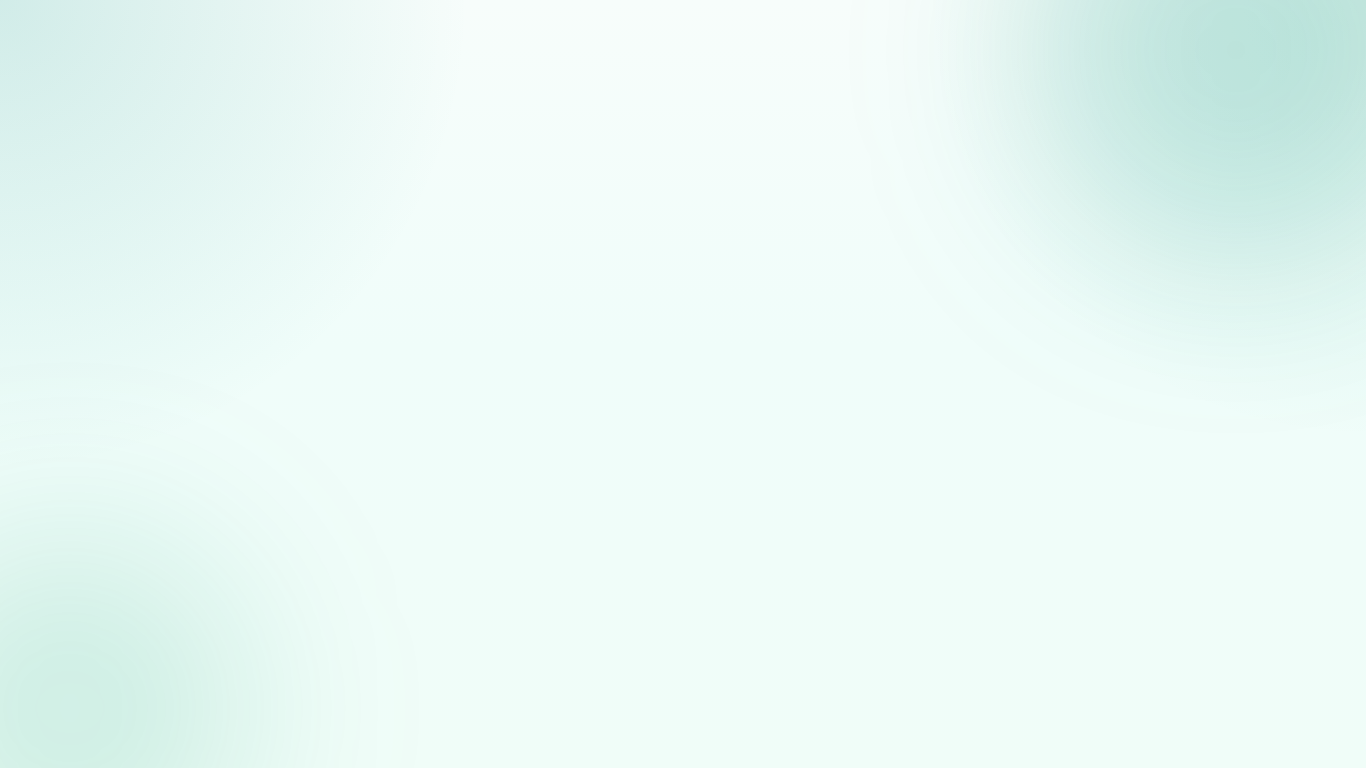
it: CommandPalette › still includes busy sessions in the session action list
The image size is (1366, 768).
Press k
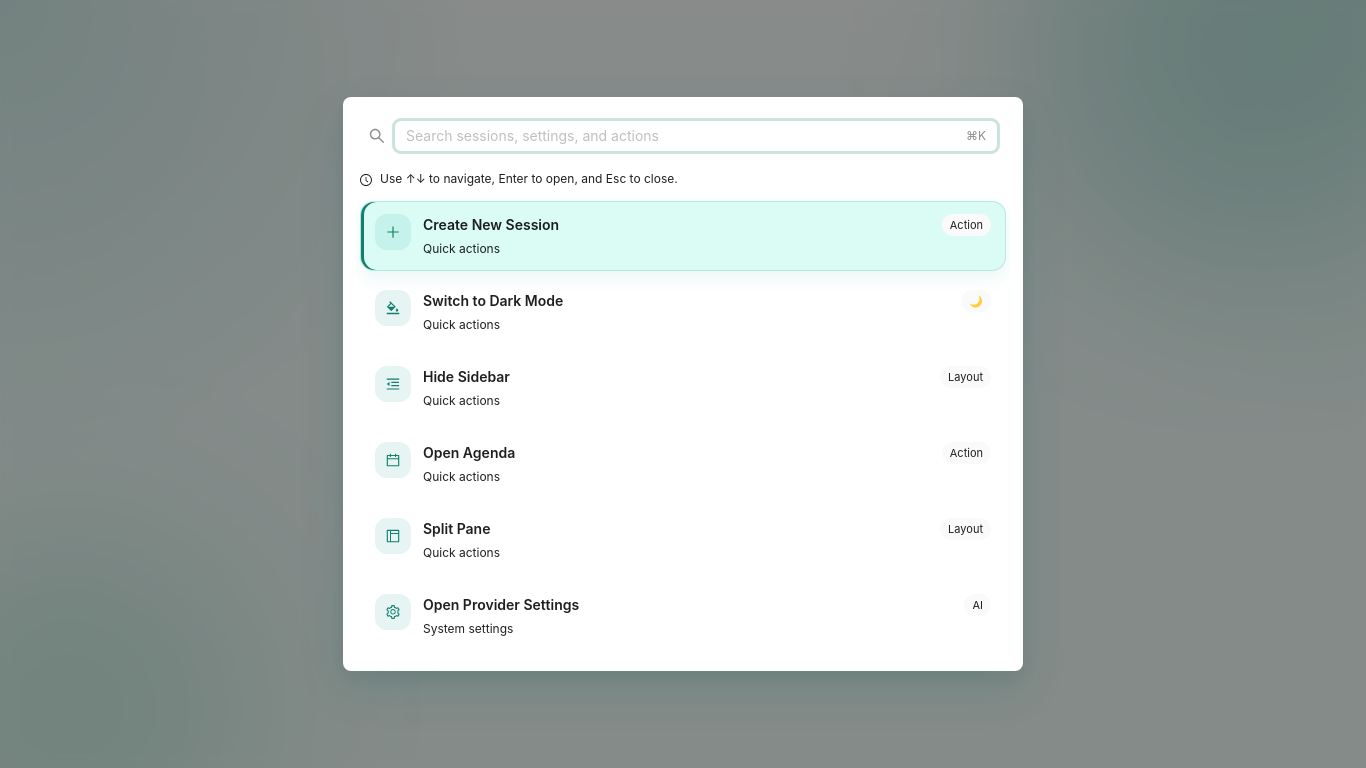
Expected: the dropdown with placeholder "Search sessions, settings, and actions" is shown
In the dropdown with placeholder "Search sessions, settings, and actions": [684, 136] box [406,125,962,147], type "running"
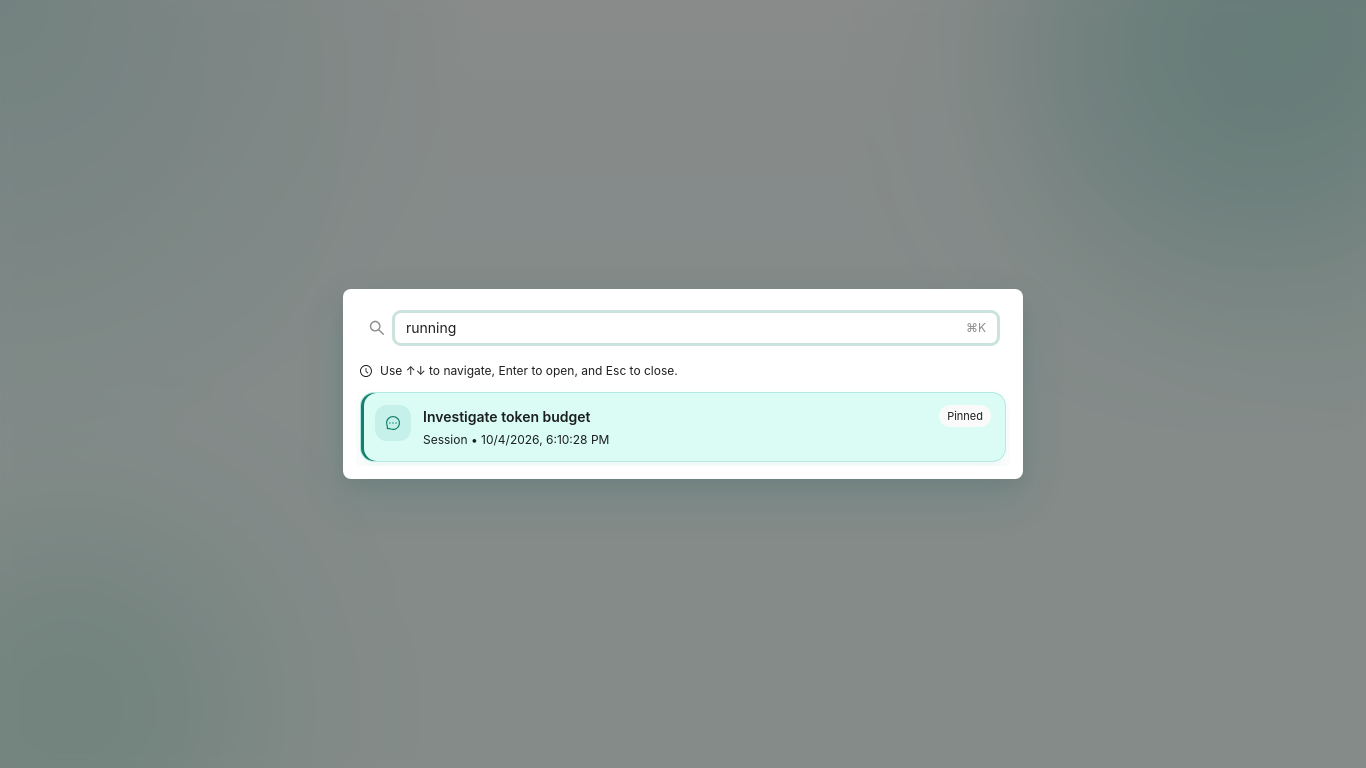
Expected: the text "Investigate token budget" is shown, [423,407,590,426]
